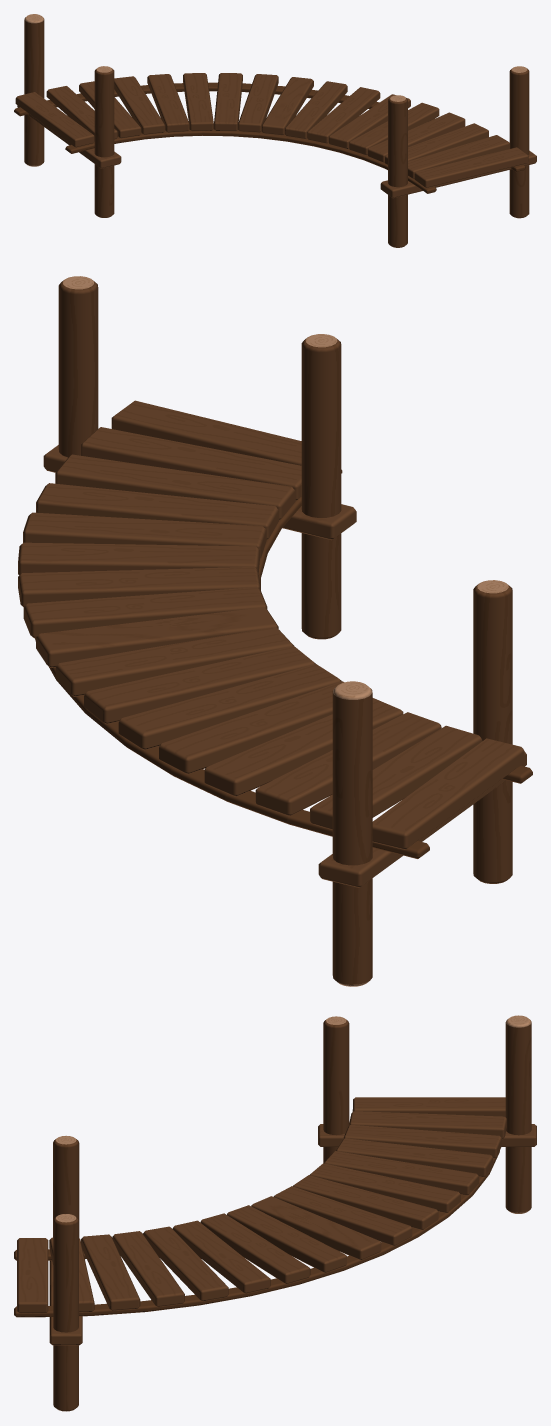
Rendered from M_Small_Turn.fbx.
3 renders of one model, top to bottom at view 1: azimuth 30°, elevation 25°; view 2: azimuth 150°, elevation 25°; view 3: azimuth 270°, elevation 25°, orthographic. The views are drawn at different scales.
Parts seen in each view (by area): view 1: M_Small_Turn; view 2: M_Small_Turn; view 3: M_Small_Turn.
Boxes of the visible parts, x1=… form: M_Small_Turn: x1=14, y1=14, x2=536, y2=247; M_Small_Turn: x1=18, y1=276, x2=532, y2=986; M_Small_Turn: x1=14, y1=1015, x2=536, y2=1411.
Bounding box in the file's own units: 1010 × 402 × 1003.
